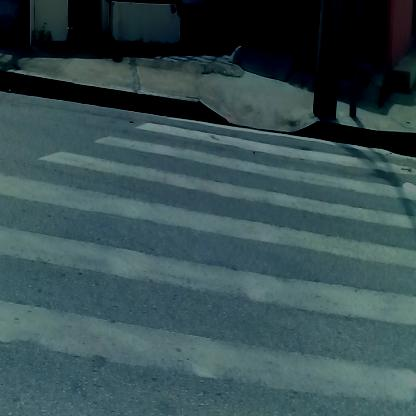crosswalk: (2, 153, 413, 381)
sidewalk: (7, 22, 416, 152)
